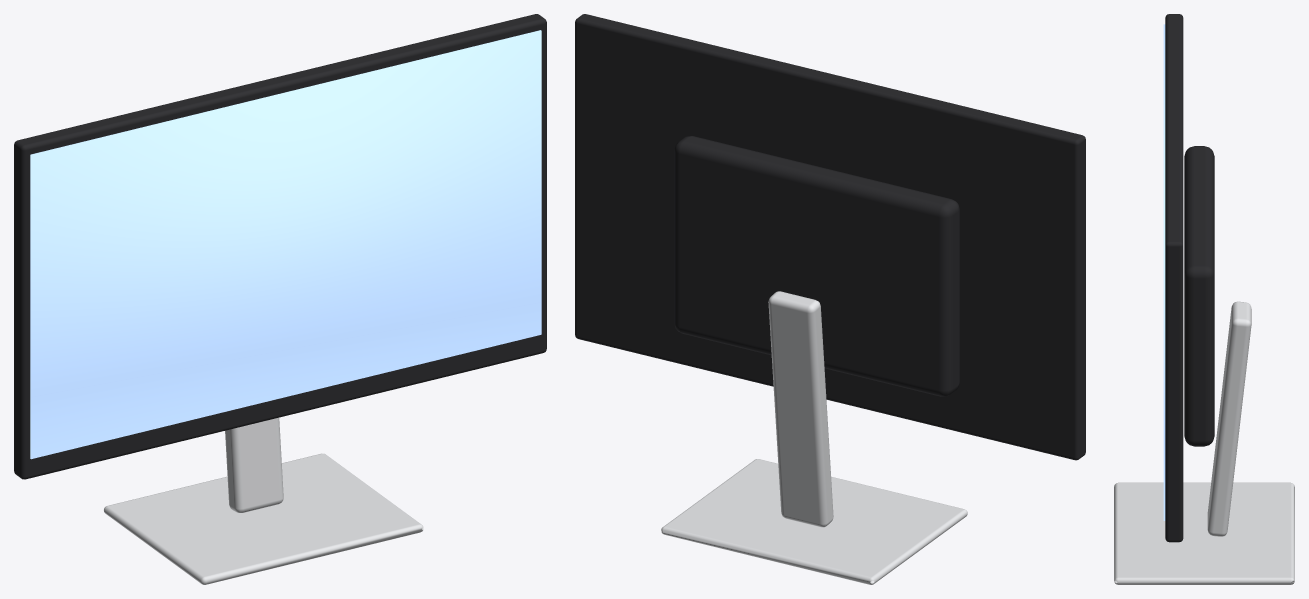
Rendered from monitor_24.glb.
3 renders of one model, left to right at view 1: azimuth 30°, elevation 25°; view 2: azimuth 150°, elevation 25°; view 3: azimuth 270°, elevation 25°, orthographic. The views are drawn at different scales.
Visible parts, largest first — view 1: Cube.001, Cube, Cube.004, Cube.003; view 2: Cube, Cube.002, Cube.004, Cube.003; view 3: Cube.004, Cube, Cube.002, Cube.003, Cube.001.
Part boxes in pixels (box(x1,y1,x2,y2)): Cube.001: box(30, 30, 541, 459); Cube: box(14, 14, 546, 479); Cube.004: box(103, 453, 423, 584); Cube.003: box(225, 417, 283, 512); Cube: box(575, 14, 1085, 460); Cube.002: box(674, 136, 959, 396); Cube.004: box(661, 459, 967, 584); Cube.003: box(768, 291, 833, 527); Cube.004: box(1114, 482, 1294, 584); Cube: box(1165, 14, 1183, 542); Cube.002: box(1184, 146, 1214, 446); Cube.003: box(1207, 301, 1251, 536); Cube.001: box(1163, 24, 1165, 520).
Size of the model in its own units: 0.5433 by 0.45 by 0.18.
